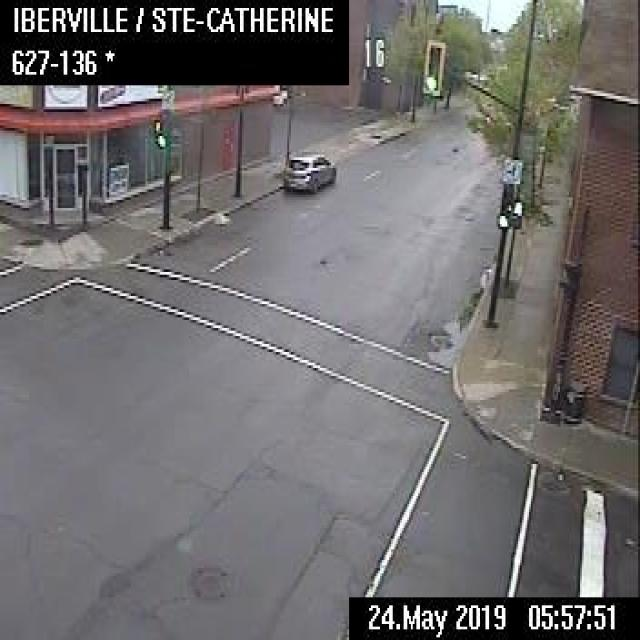vehicle: (284, 147, 334, 189)
